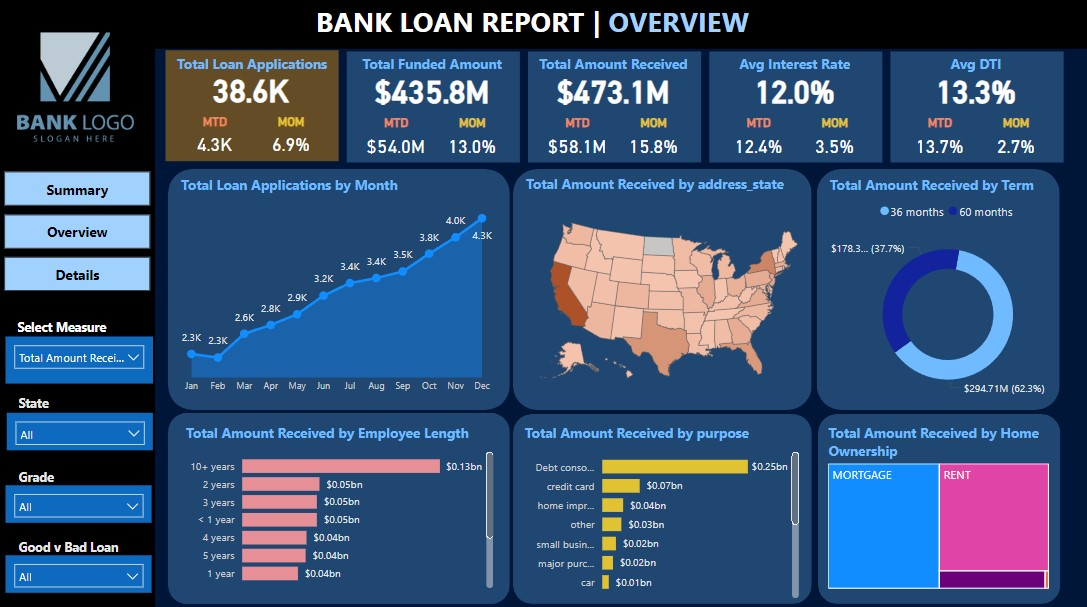

What the dashboard file says about the page in this screenshot:
{"tool":"powerbi","page":{"name":"Overview","canvas":[1280,720],"ordinal":1},"visuals":[{"type":"shape","box":[0,0,1280.3,58.7],"z":0},{"type":"image","box":[17.6,26.4,146.5,153.8],"z":0,"group":"g12"},{"type":"shape","box":[196.7,60,202.9,130],"z":0,"group":"g1"},{"type":"shape","box":[408.9,61.1,202.9,130],"z":0,"group":"g2"},{"type":"shape","box":[621,61.1,202.9,130],"z":0,"group":"g3"},{"type":"shape","box":[833.2,61.1,202.9,130],"z":0,"group":"g4"},{"type":"shape","box":[1045.3,61.4,202.9,130],"z":0,"group":"g5"},{"type":"shape","box":[603.8,199,350,282.4],"z":0,"group":"g10"},{"type":"shape","box":[199.1,199.1,400.5,282.3],"z":0,"group":"g11"},{"type":"shape","box":[959.1,199.1,284.7,282.3],"z":0,"group":"g9"},{"type":"textbox","box":[18.7,459,104.3,31.4],"z":0,"group":"g6"},{"type":"textbox","box":[18.1,544.1,104.3,31.4],"z":0,"group":"g7"},{"type":"textbox","box":[18.1,626.2,146,31.4],"z":0,"group":"g8"},{"type":"card","fields":{"Values":["bank_loan_data.Total Loan Applications"]},"box":[161.4,50,270,110.5],"z":1000,"group":"g1"},{"type":"card","fields":{"Values":["bank_loan_data.Total Funded Amount"]},"box":[373.6,51.1,270,110.5],"z":1000,"group":"g2"},{"type":"card","fields":{"Values":["bank_loan_data.Total Amount Received"]},"box":[585.7,51.1,270,110.5],"z":1000,"group":"g3"},{"type":"card","fields":{"Values":["bank_loan_data.Avg Interest Rate"]},"box":[797.9,51.1,270,110.5],"z":1000,"group":"g4"},{"type":"card","fields":{"Values":["bank_loan_data.Avg DTI"]},"box":[1010,51.4,270,110.5],"z":1000,"group":"g5"},{"type":"pageNavigator","box":[7.3,202.1,171.4,142.1],"z":1000,"group":"g12"},{"type":"shapeMap","fields":{"Value":["bank_loan_data.Total Amount Received"],"Category":["bank_loan_data.address_state"]},"box":[614.8,205,345,275.2],"z":1000,"group":"g10"},{"type":"areaChart","fields":{"Category":["Date Table.Month"],"Y":["bank_loan_data.Total Loan Applications"]},"box":[210,206.3,375.2,264.2],"z":1000,"group":"g11"},{"type":"donutChart","fields":{"Y":["bank_loan_data.Total Amount Received"],"Category":["bank_loan_data.term"]},"box":[968.8,206.3,287.1,275.1],"z":1000,"group":"g9"},{"type":"shape","box":[199.1,485,400.5,224.4],"z":1000},{"type":"slicer","fields":{"Values":["bank_loan_data.address_state"]},"box":[9.6,485.8,171.4,44.3],"z":1000,"group":"g6"},{"type":"slicer","fields":{"Values":["bank_loan_data.grade"]},"box":[8.1,568.4,171.4,44.3],"z":1000,"group":"g7"},{"type":"slicer","fields":{"Values":["bank_loan_data.Good v Bad Loan"]},"box":[8.1,650.7,171.4,44.3],"z":1000,"group":"g8"},{"type":"card","title":"MTD","fields":{"Values":["bank_loan_data.MTD Loan Applications"]},"box":[209.6,134.6,89.1,55.2],"z":2000,"group":"g1"},{"type":"card","title":"MTD","fields":{"Values":["bank_loan_data.MTD Funded Amount"]},"box":[421.8,135.7,89.1,55.2],"z":2000,"group":"g2"},{"type":"card","title":"MTD","fields":{"Values":["bank_loan_data.MTD Amount Received"]},"box":[633.9,135.7,89.1,55.2],"z":2000,"group":"g3"},{"type":"card","title":"MTD","fields":{"Values":["bank_loan_data.MTD Avg Interest Rate"]},"box":[846.1,135.7,89.1,55.2],"z":2000,"group":"g4"},{"type":"card","title":"MTD","fields":{"Values":["bank_loan_data.MTD Avg DTI"]},"box":[1058.2,136,89.1,55.2],"z":2000,"group":"g5"},{"type":"shape","box":[603.4,486.2,350,222.6],"z":2000},{"type":"card","title":"MOM","fields":{"Values":["bank_loan_data.MOM Loan Application"]},"box":[298.7,134.6,89.1,55.2],"z":3000,"group":"g1"},{"type":"card","title":"MOM","fields":{"Values":["bank_loan_data.MOM Funded Amount"]},"box":[510.9,135.7,89.1,55.2],"z":3000,"group":"g2"},{"type":"card","title":"MOM","fields":{"Values":["bank_loan_data.MOM Amount Received"]},"box":[723,135.7,89.1,55.2],"z":3000,"group":"g3"},{"type":"card","title":"MOM","fields":{"Values":["bank_loan_data.MOM Avg Interest Rate"]},"box":[935.2,135.7,89.1,55.2],"z":3000,"group":"g4"},{"type":"card","title":"MOM","fields":{"Values":["bank_loan_data.MOM Avg DTI"]},"box":[1147.3,136,89.1,55.2],"z":3000,"group":"g5"},{"type":"shape","box":[960.7,486.2,284.1,222.6],"z":3000},{"type":"shape","box":[0,0,184.3,720],"z":4000},{"type":"textbox","box":[199.4,60,197,32],"z":4000,"group":"g1"},{"type":"textbox","box":[410.3,60.3,197.1,31.4],"z":4000,"group":"g2"},{"type":"textbox","box":[622.4,60.3,197.1,31.4],"z":4000,"group":"g3"},{"type":"textbox","box":[834.6,60.3,197.1,31.4],"z":4000,"group":"g4"},{"type":"textbox","box":[1046.7,60.6,197.1,31.4],"z":4000,"group":"g5"},{"type":"textbox","box":[18,369.7,144.8,31.4],"z":5000},{"type":"textbox","box":[368.1,0,541.7,62.4],"z":6000},{"type":"group","id":"g1","title":"Group 1","box":[161.4,50,270,140],"z":7000},{"type":"group","id":"g2","title":"Group 1","box":[373.6,51.1,270,140],"z":8000},{"type":"group","id":"g3","title":"Group 1","box":[585.7,51.1,270,140],"z":9000},{"type":"group","id":"g4","title":"Group 1","box":[797.9,51.1,270,140],"z":10000},{"type":"group","id":"g5","title":"Group 1","box":[1010,51.4,270,140],"z":11000},{"type":"group","id":"g6","title":"Group 2","box":[9.6,459,171.3,71.2],"z":12000},{"type":"group","id":"g7","title":"Group 3","box":[8.1,544.1,171.4,68.6],"z":13000},{"type":"group","id":"g8","title":"Group 4","box":[8.1,626.2,171.4,68.7],"z":14000},{"type":"slicer","fields":{"Values":["Select Measure.Select Measure"]},"box":[8.4,395,172.5,55.5],"z":15000},{"type":"group","id":"g9","title":"Group 5","box":[959.1,199.1,296.8,282.3],"z":16000},{"type":"group","id":"g10","title":"Group 6","box":[603.8,199,356,282.4],"z":17000},{"type":"group","id":"g11","title":"Group 7","box":[199.1,199.1,400.5,282.3],"z":18000},{"type":"barChart","fields":{"Y":["bank_loan_data.Total Amount Received"],"Category":["bank_loan_data.emp_length"]},"box":[215.7,496.7,370.1,199],"z":19000},{"type":"barChart","fields":{"Y":["bank_loan_data.Total Amount Received"],"Category":["bank_loan_data.purpose"]},"box":[612.4,496.9,331.3,210.8],"z":20000},{"type":"treemap","fields":{"Values":["bank_loan_data.Total Amount Received"],"Group":["bank_loan_data.home_ownership"]},"box":[968.1,496.5,268,199.2],"z":21000},{"type":"group","id":"g12","title":"Group 6","box":[7.3,26.4,171.4,317.8],"z":21001}]}

Visuals, with their boxes in screenshot pixels (x1, y1, x2, y2), scaled from the page's 1280x720 canvas onto the 1087x607 screenshot:
shape: Rect(0, 0, 1086, 49)
image: Rect(15, 22, 139, 152)
shape: Rect(167, 51, 339, 160)
shape: Rect(347, 52, 520, 161)
shape: Rect(527, 52, 700, 161)
shape: Rect(708, 52, 880, 161)
shape: Rect(888, 52, 1060, 161)
shape: Rect(513, 168, 810, 406)
shape: Rect(169, 168, 509, 406)
shape: Rect(814, 168, 1056, 406)
textbox: Rect(16, 387, 104, 413)
textbox: Rect(15, 459, 104, 485)
textbox: Rect(15, 528, 139, 554)
card - bank_loan_data.Total Loan Applications: Rect(137, 42, 366, 135)
card - bank_loan_data.Total Funded Amount: Rect(317, 43, 547, 136)
card - bank_loan_data.Total Amount Received: Rect(497, 43, 727, 136)
card - bank_loan_data.Avg Interest Rate: Rect(678, 43, 907, 136)
card - bank_loan_data.Avg DTI: Rect(858, 43, 1086, 136)
pageNavigator: Rect(6, 170, 152, 290)
shapeMap - bank_loan_data.Total Amount Received x bank_loan_data.address_state: Rect(522, 173, 815, 405)
areaChart - Date Table.Month x bank_loan_data.Total Loan Applications: Rect(178, 174, 497, 397)
donutChart - bank_loan_data.Total Amount Received x bank_loan_data.term: Rect(823, 174, 1067, 406)
shape: Rect(169, 409, 509, 598)
slicer - bank_loan_data.address_state: Rect(8, 410, 154, 447)
slicer - bank_loan_data.grade: Rect(7, 479, 152, 517)
slicer - bank_loan_data.Good v Bad Loan: Rect(7, 549, 152, 586)
"MTD" card: Rect(178, 113, 254, 160)
"MTD" card: Rect(358, 114, 434, 161)
"MTD" card: Rect(538, 114, 614, 161)
"MTD" card: Rect(719, 114, 794, 161)
"MTD" card: Rect(899, 115, 974, 161)
shape: Rect(512, 410, 810, 598)
"MOM" card: Rect(254, 113, 329, 160)
"MOM" card: Rect(434, 114, 510, 161)
"MOM" card: Rect(614, 114, 690, 161)
"MOM" card: Rect(794, 114, 870, 161)
"MOM" card: Rect(974, 115, 1050, 161)
shape: Rect(816, 410, 1057, 598)
shape: Rect(0, 0, 157, 606)
textbox: Rect(169, 51, 337, 78)
textbox: Rect(348, 51, 516, 77)
textbox: Rect(529, 51, 696, 77)
textbox: Rect(709, 51, 876, 77)
textbox: Rect(889, 51, 1056, 78)
textbox: Rect(15, 312, 138, 338)
textbox: Rect(313, 0, 773, 53)
"Group 1" group: Rect(137, 42, 366, 160)
"Group 1" group: Rect(317, 43, 547, 161)
"Group 1" group: Rect(497, 43, 727, 161)
"Group 1" group: Rect(678, 43, 907, 161)
"Group 1" group: Rect(858, 43, 1086, 161)
"Group 2" group: Rect(8, 387, 154, 447)
"Group 3" group: Rect(7, 459, 152, 517)
"Group 4" group: Rect(7, 528, 152, 586)
slicer - Select Measure.Select Measure: Rect(7, 333, 154, 380)
"Group 5" group: Rect(814, 168, 1067, 406)
"Group 6" group: Rect(513, 168, 815, 406)
"Group 7" group: Rect(169, 168, 509, 406)
barChart - bank_loan_data.Total Amount Received x bank_loan_data.emp_length: Rect(183, 419, 497, 587)
barChart - bank_loan_data.Total Amount Received x bank_loan_data.purpose: Rect(520, 419, 801, 597)
treemap - bank_loan_data.Total Amount Received x bank_loan_data.home_ownership: Rect(822, 419, 1050, 587)
"Group 6" group: Rect(6, 22, 152, 290)
